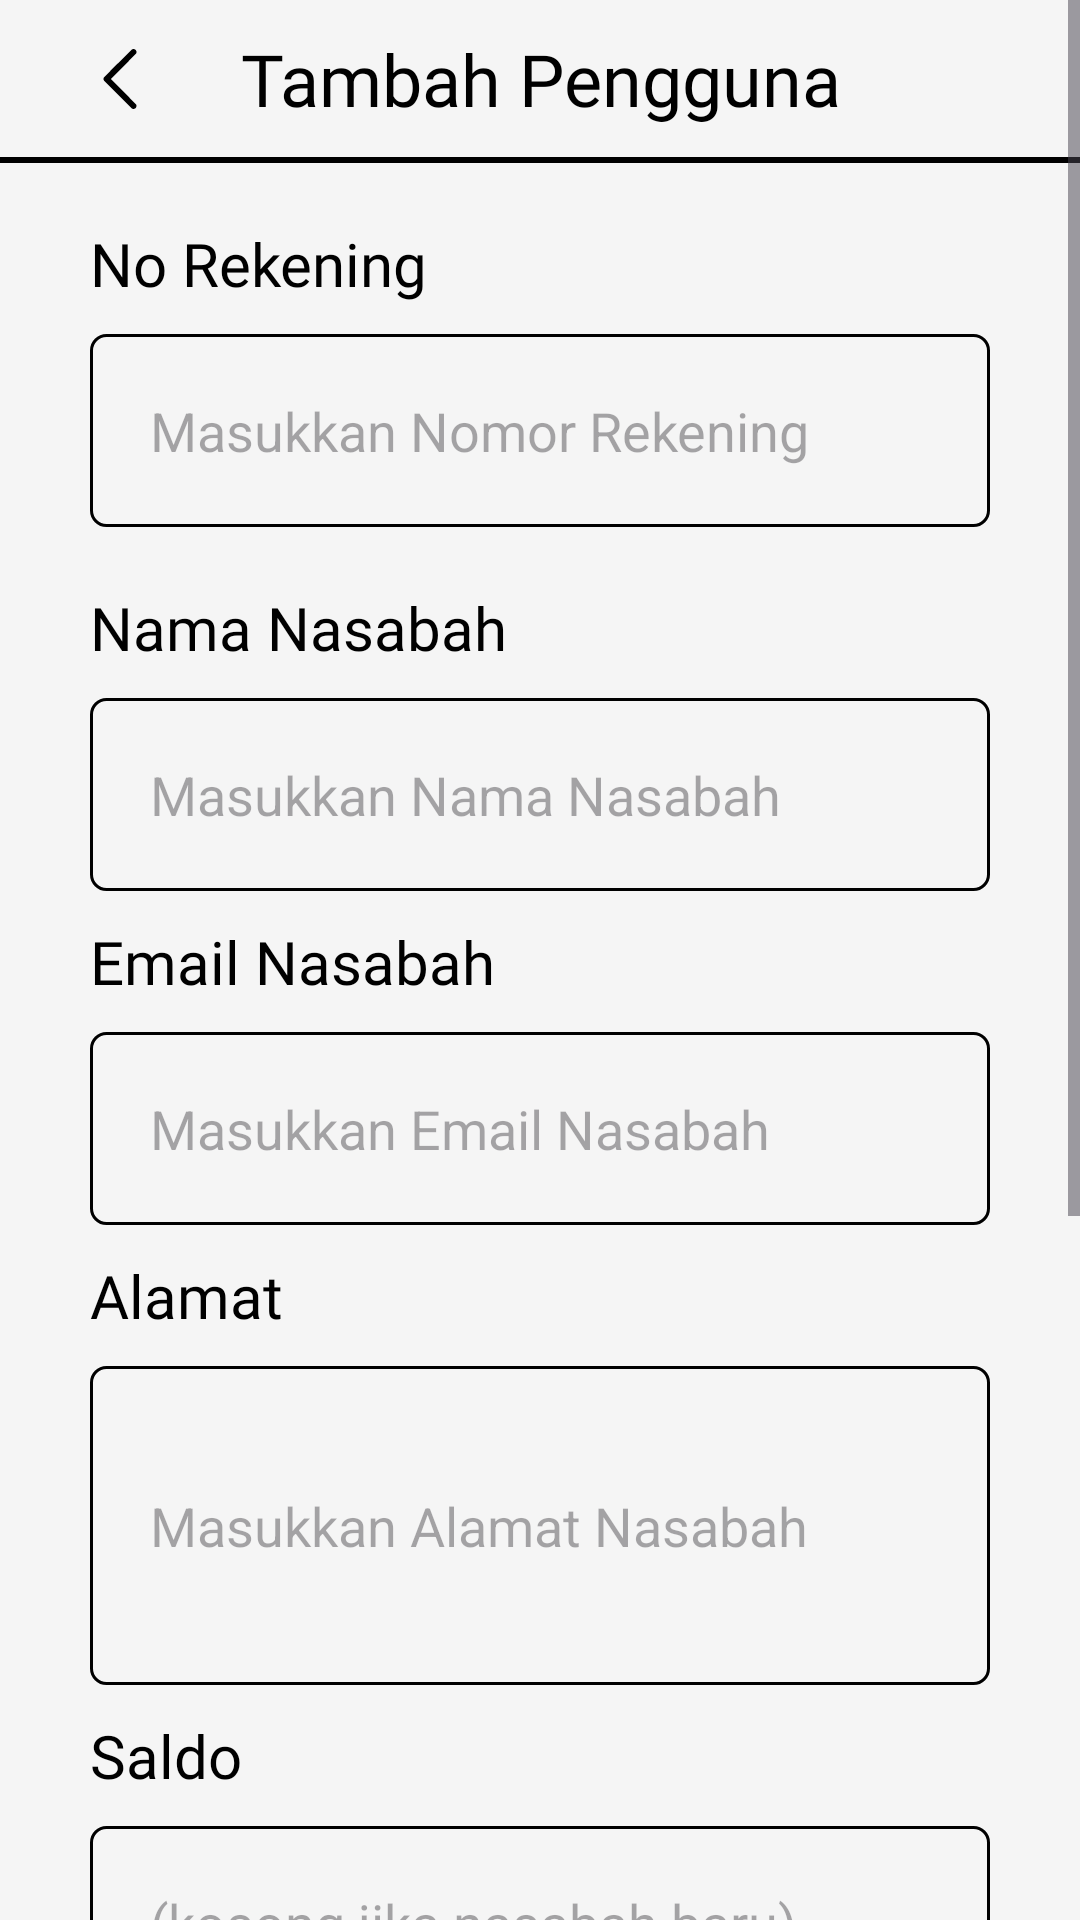

Named icons in this screenshot (1080 × 1920) and their bounding boxes, (x1, y1, x2, y2):
back: (103, 49, 137, 109)
